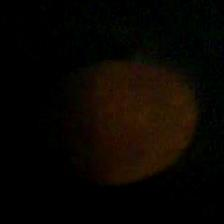fertile: (34, 54, 198, 186)
